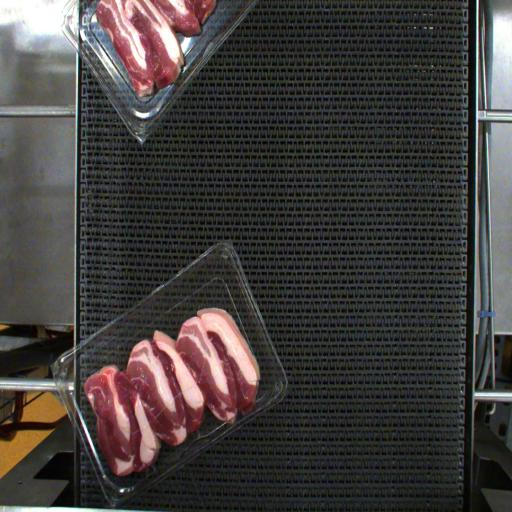wrinkle: (145, 357, 205, 429)
